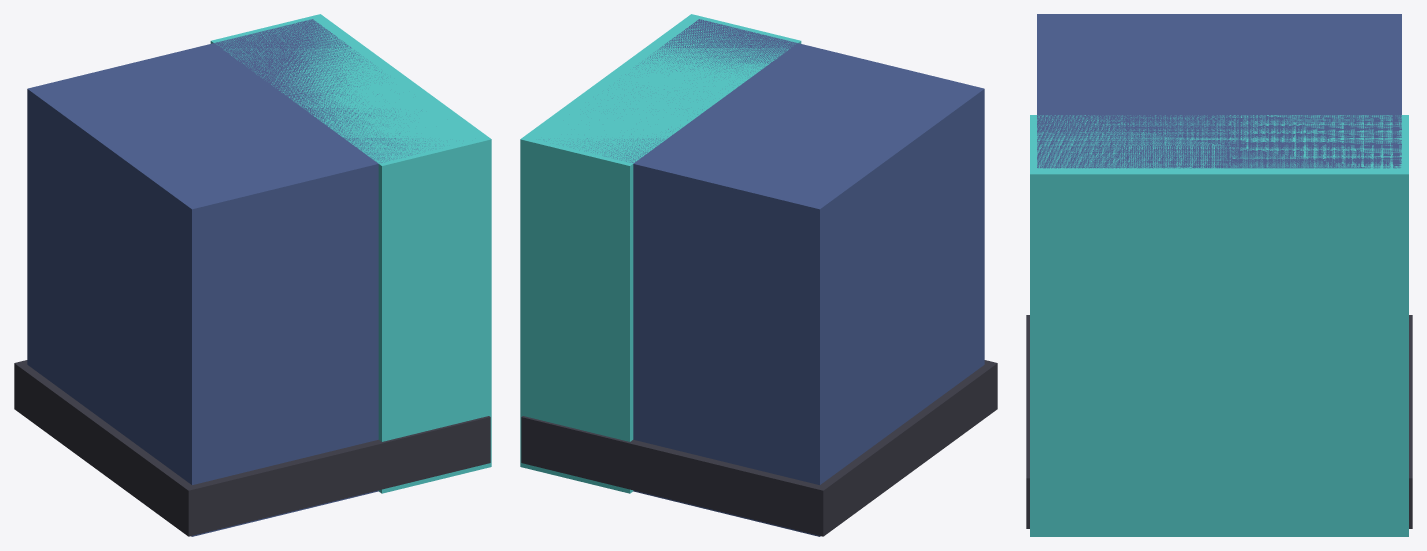
File: mergulhador_canela.glb
3 views of the same model, side by side, from view 1: azimuth 30°, elevation 25°; view 2: azimuth 150°, elevation 25°; view 3: azimuth 270°, elevation 25° (orthographic). The views are drawn at different scales.
Visible parts, largest first — view 1: mergulhador_canela; view 2: mergulhador_canela; view 3: mergulhador_canela.
Part boxes in pixels (x1=…): mergulhador_canela: x1=14, y1=14, x2=491, y2=536; mergulhador_canela: x1=520, y1=14, x2=997, y2=536; mergulhador_canela: x1=1026, y1=14, x2=1412, y2=536.
Bounding box in the file's own units: 0.2775 × 0.285 × 0.275.
